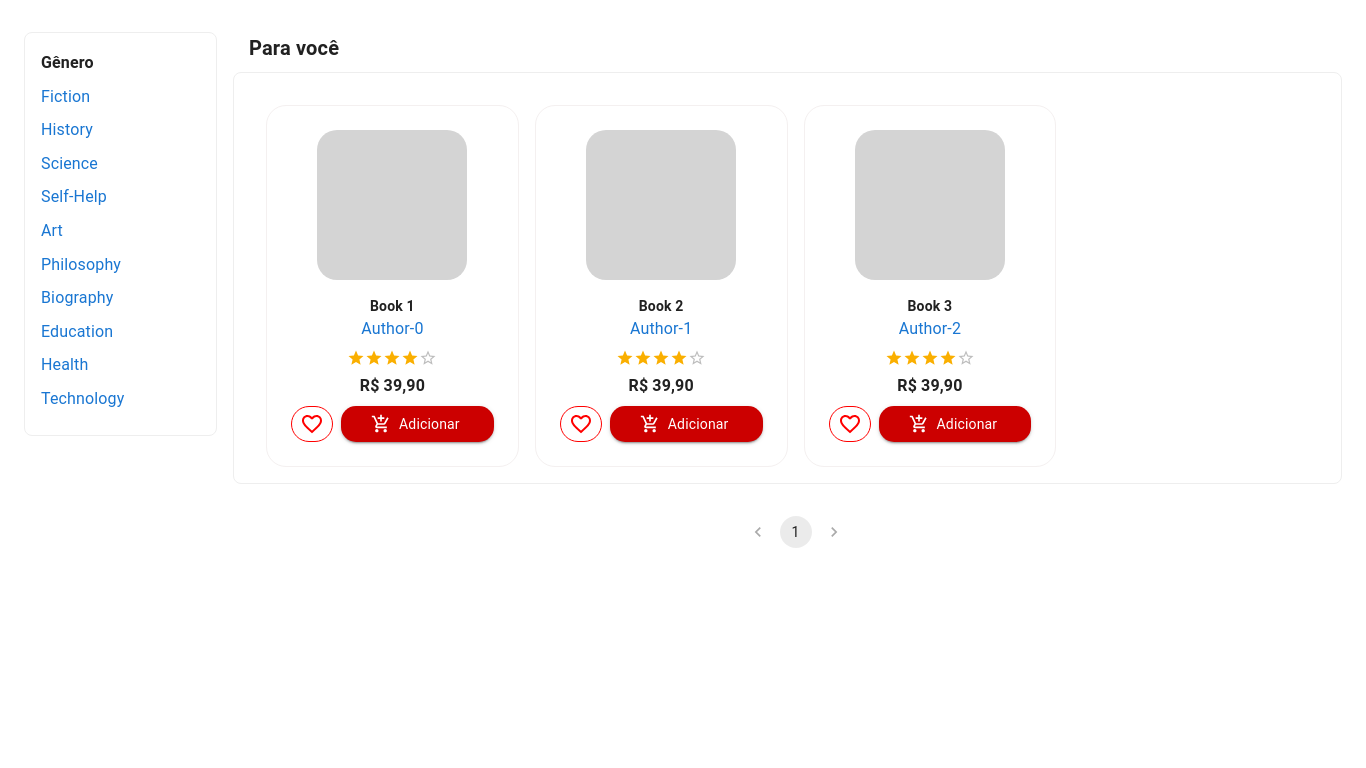
Test: BookStoreView › clears author search and resets page to 1
Click the button with test id "author-btn-0" at (392, 329), box [361,317,424,341]
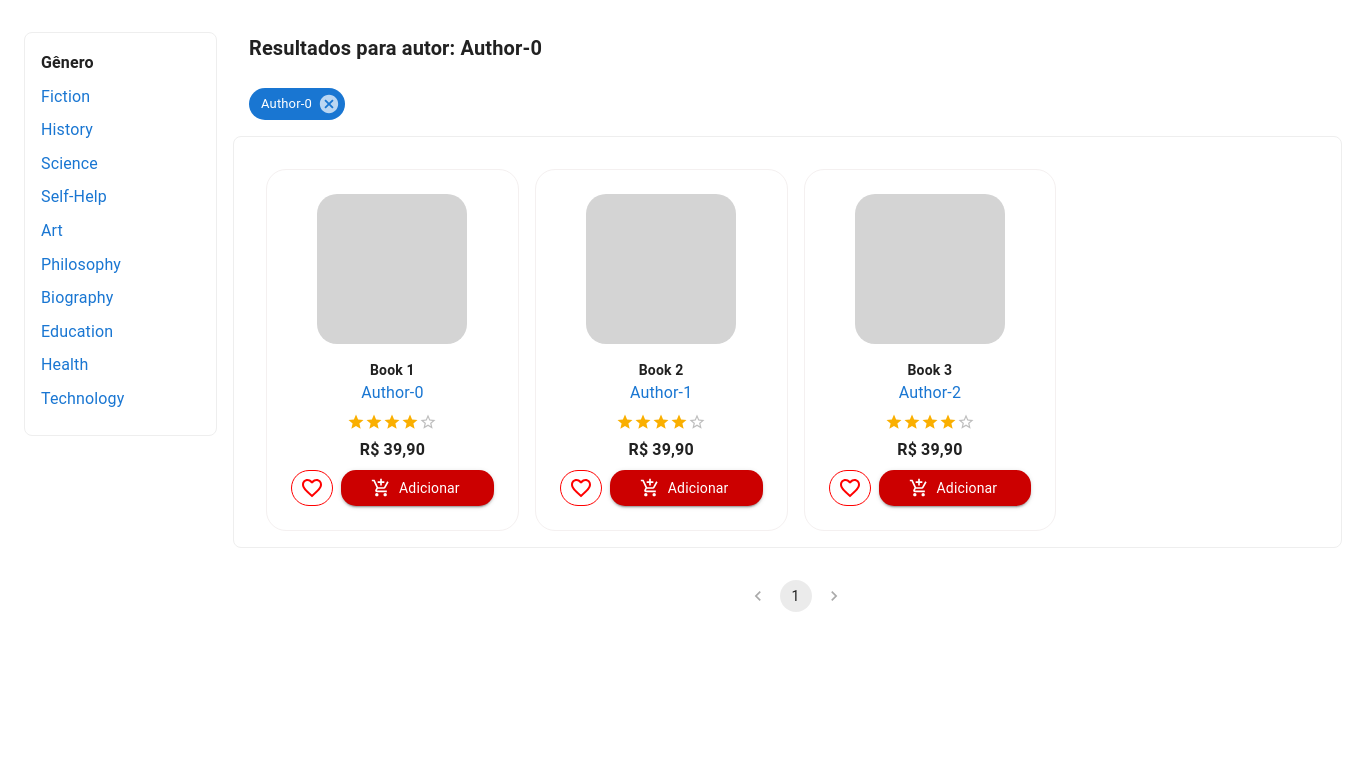
expect the heading "Resultados para autor: Author-0" is shown: met, box [249,36,542,60]
Click the icon with test id "CancelIcon" at (329, 104), box [318,93,340,115]
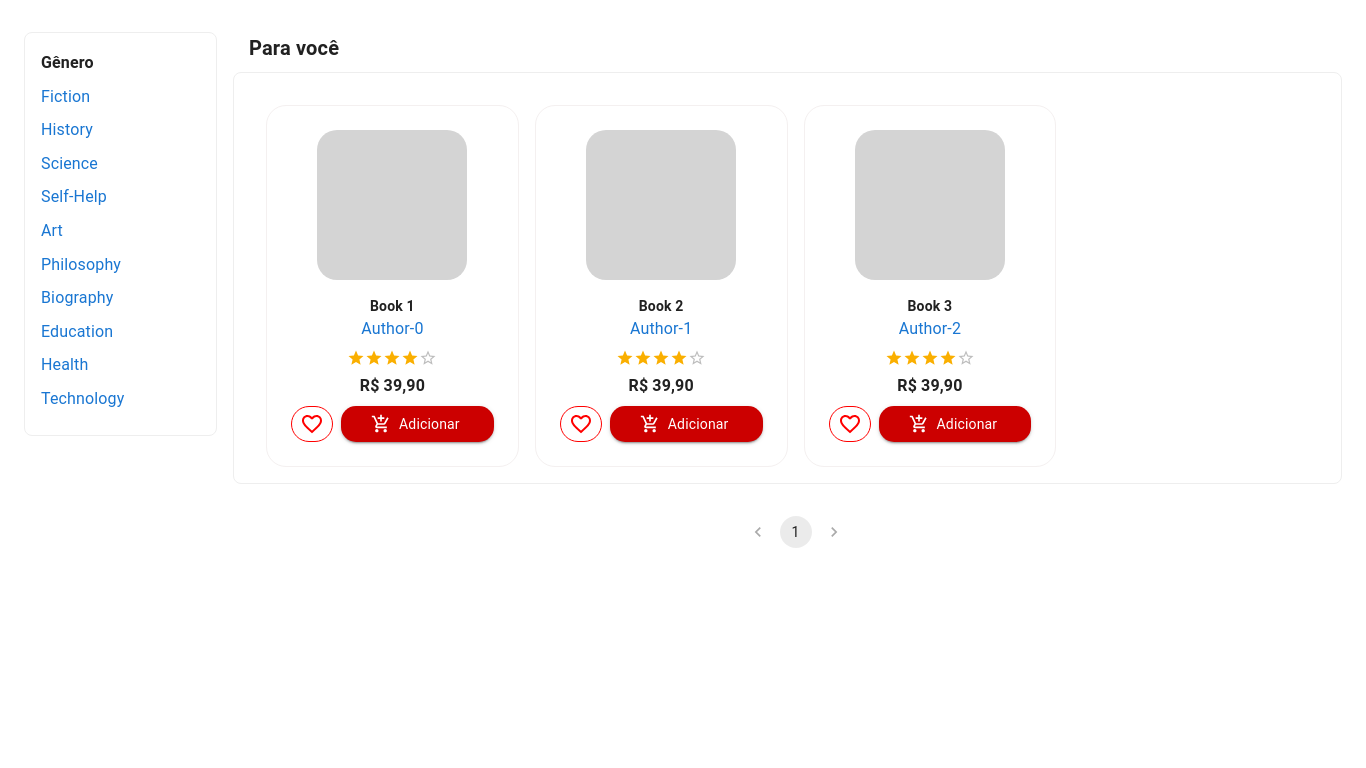
expect the text "Book 1" is shown: met, box [370,298,415,314]
expect the heading "Resultados para autor: Author-0" is gone: met
